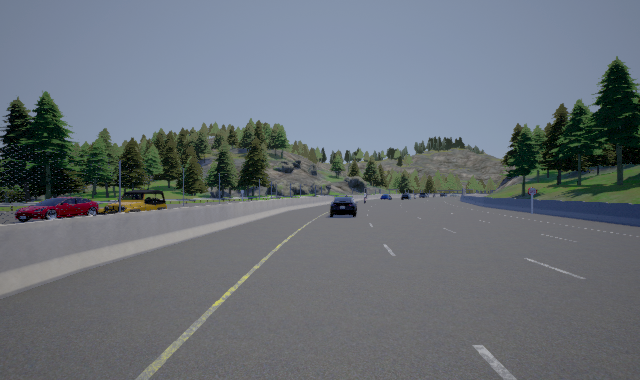bike: (361, 191, 368, 206)
traffic_sign: (528, 187, 537, 195)
vehicle: (15, 197, 100, 223), (102, 190, 167, 221), (330, 197, 358, 217), (399, 191, 411, 202), (379, 193, 393, 201)
